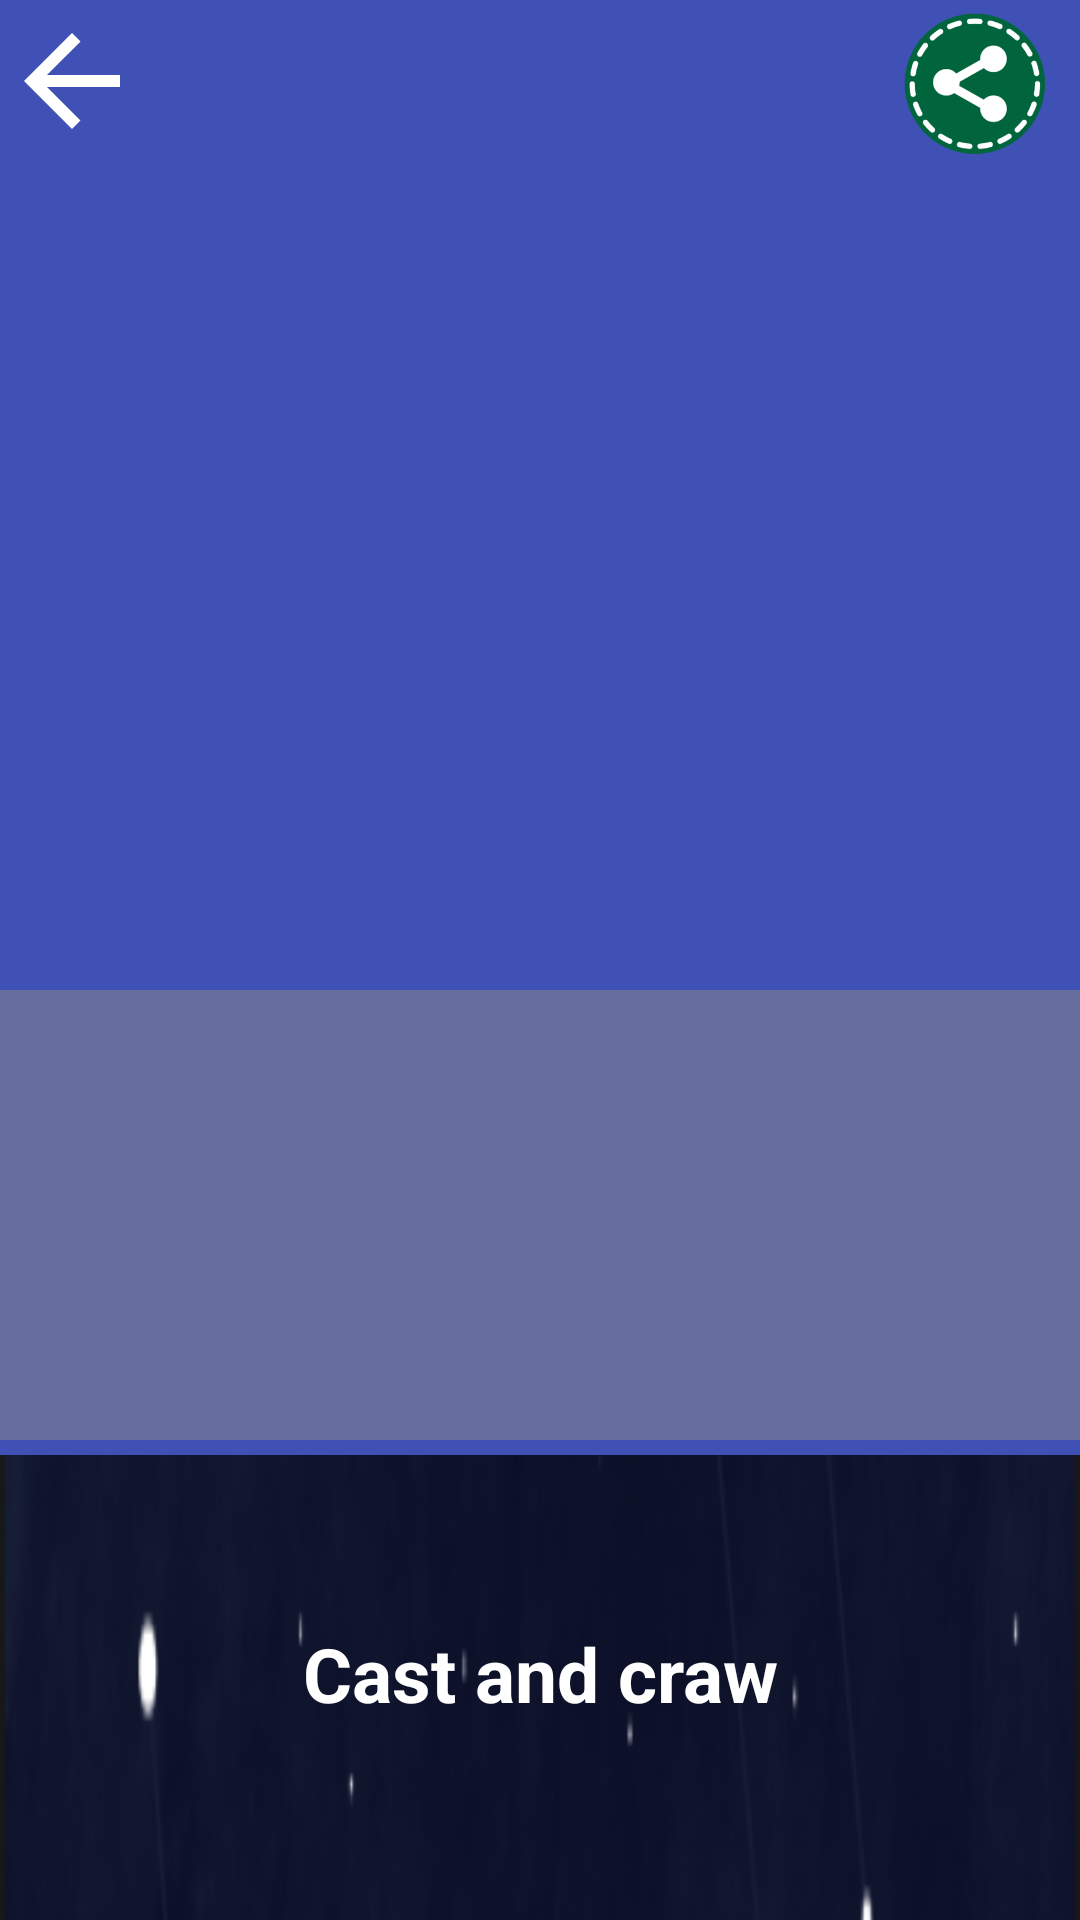

Where icons sit on this 1080w x 1920h app screen, as (x1,y1,x2,y2):
back: (24,33,120,129)
share: (904,13,1045,154)
